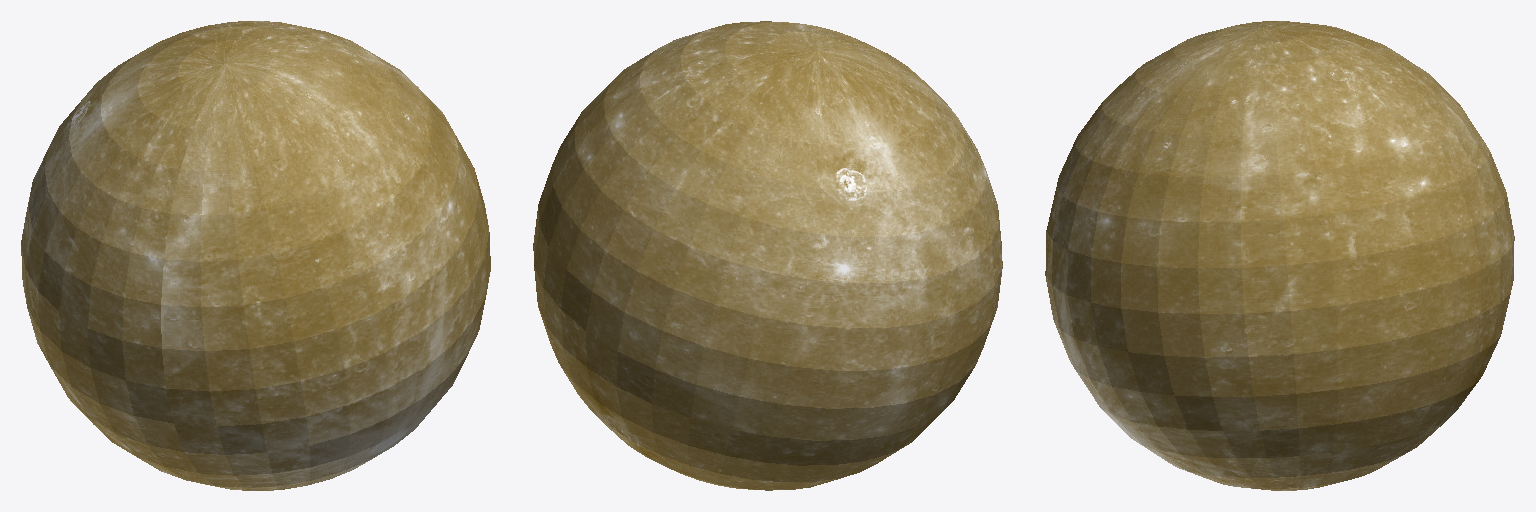
3 renders of one model, left to right at view 1: azimuth 30°, elevation 25°; view 2: azimuth 150°, elevation 25°; view 3: azimuth 270°, elevation 25°, orthographic.
Visible parts, largest first — view 1: Sphere; view 2: Sphere; view 3: Sphere.
Boxes of the visible parts, box(x1,y1,x2,y2) form: Sphere: box(21, 21, 490, 490); Sphere: box(533, 21, 1002, 490); Sphere: box(1045, 21, 1514, 490).
Bounding box in the file's own units: 2 × 2 × 1.99.
Materials: 1 (1 with a texture image).